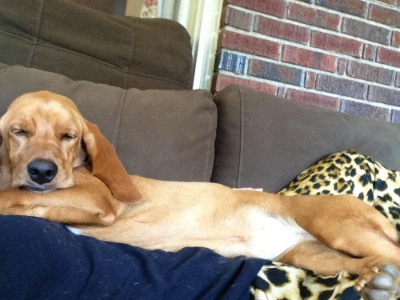daisy: (3, 75, 140, 215)
